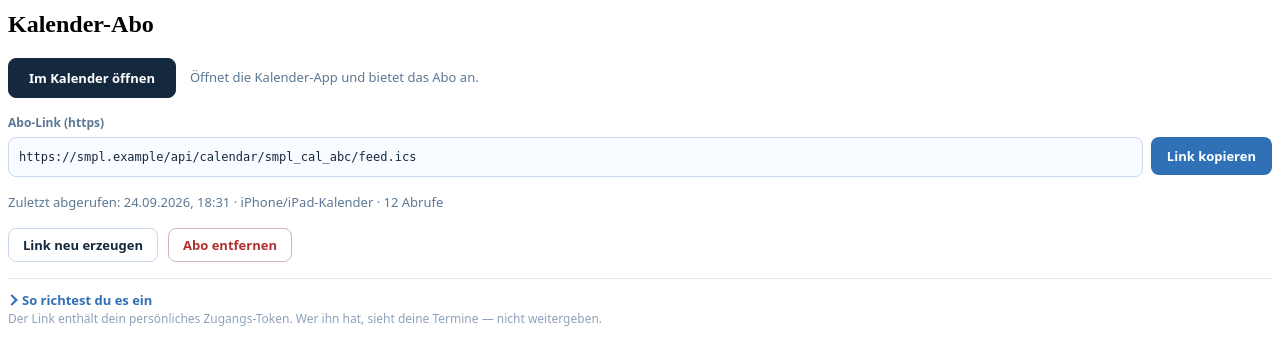
Test: CalendarFeedSection › copies the https link to the clipboard
The image size is (1280, 343).
Expected: the link "Im Kalender öffnen" is shown, [8,58,176,98]
Click the button "Link kopieren". click: (1211, 156)
box: [1151,137,1272,175]
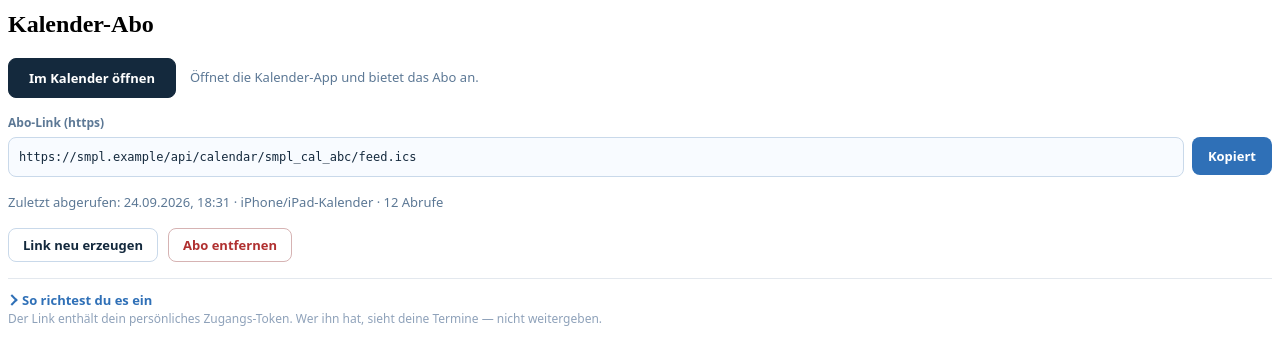
Expected: the button "Kopiert" is shown, [1192,137,1272,175]
